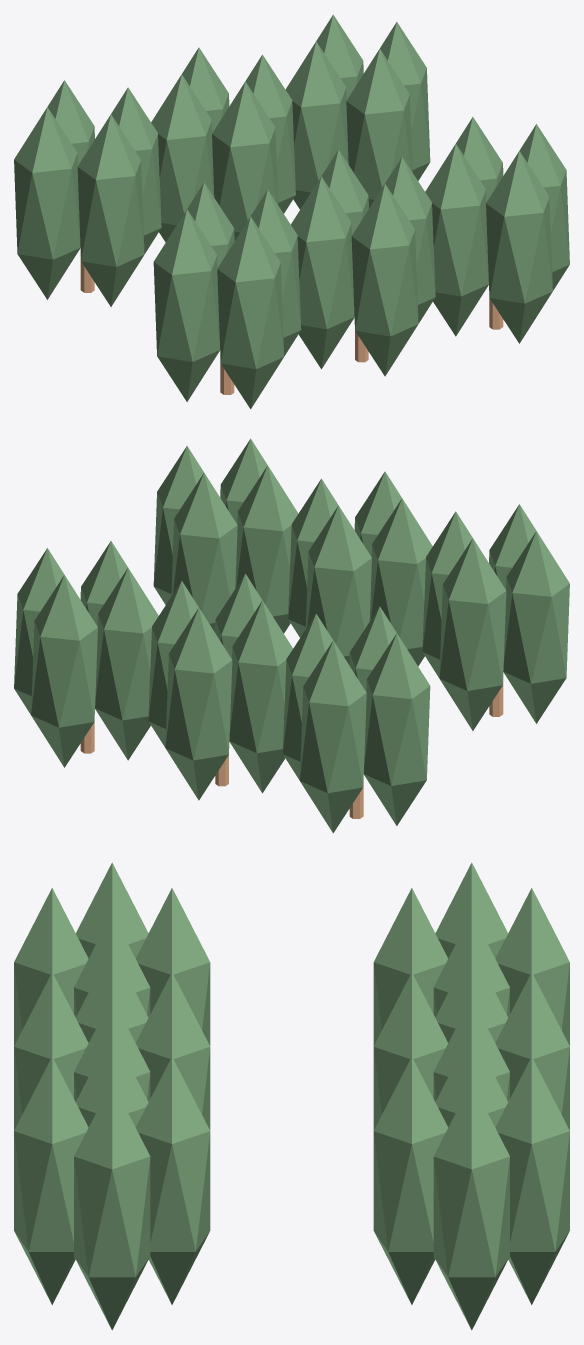
3 renders of one model, top to bottom at view 1: azimuth 30°, elevation 25°; view 2: azimuth 150°, elevation 25°; view 3: azimuth 270°, elevation 25°, orthographic. The views are drawn at different scales.
Visible parts, largest first — view 1: Leaf.011, Leaf.007, Leaf.019, Leaf.003, Leaf.002, Leaf.006, Leaf.018, Leaf.010, Leaf.023, Leaf.015, Leaf.022, Leaf.014 (+12 smaller); view 2: Leaf.013, Leaf.001, Leaf.021, Leaf.005, Leaf.006, Leaf.002, Leaf.022, Leaf.014, Leaf.017, Leaf.009, Leaf.018, Leaf.010 (+12 smaller); view 3: Leaf.016, Leaf.020, Leaf.017, Leaf.023, Leaf.019, Leaf.021, Leaf.001, Leaf.007, Leaf.009, Leaf.015, Leaf.011, Leaf.013 (+12 smaller).
Part boxes in pixels (x1=…): Leaf.011: x1=351, y1=184, x2=418, y2=376; Leaf.007: x1=77, y1=114, x2=144, y2=306; Leaf.019: x1=486, y1=151, x2=552, y2=343; Leaf.003: x1=217, y1=216, x2=284, y2=409; Leaf.002: x1=153, y1=209, x2=219, y2=401; Leaf.006: x1=14, y1=107, x2=80, y2=299; Leaf.018: x1=425, y1=144, x2=488, y2=336; Leaf.010: x1=291, y1=176, x2=354, y2=369; Leaf.023: x1=346, y1=48, x2=412, y2=207; Leaf.015: x1=212, y1=81, x2=278, y2=240; Leaf.022: x1=285, y1=41, x2=348, y2=209; Leaf.014: x1=151, y1=74, x2=214, y2=242; Leaf.013: x1=165, y1=608, x2=232, y2=800; Leaf.001: x1=439, y1=538, x2=506, y2=730; Leaf.021: x1=31, y1=575, x2=97, y2=767; Leaf.005: x1=299, y1=640, x2=366, y2=833; Leaf.006: x1=364, y1=633, x2=430, y2=825; Leaf.002: x1=503, y1=531, x2=569, y2=723; Leaf.022: x1=95, y1=568, x2=158, y2=760; Leaf.014: x1=229, y1=600, x2=292, y2=793; Leaf.017: x1=171, y1=472, x2=237, y2=631; Leaf.009: x1=305, y1=505, x2=371, y2=664; Leaf.018: x1=235, y1=465, x2=298, y2=633; Leaf.010: x1=369, y1=498, x2=432, y2=666; Leaf.016: x1=74, y1=1082, x2=150, y2=1330; Leaf.020: x1=433, y1=1082, x2=509, y2=1330; Leaf.017: x1=135, y1=1057, x2=210, y2=1304; Leaf.023: x1=373, y1=1057, x2=448, y2=1304; Leaf.019: x1=14, y1=1057, x2=88, y2=1304; Leaf.021: x1=495, y1=1057, x2=569, y2=1304; Leaf.001: x1=135, y1=888, x2=210, y2=1045; Leaf.007: x1=373, y1=888, x2=448, y2=1045; Leaf.009: x1=135, y1=972, x2=210, y2=1130; Leaf.015: x1=373, y1=972, x2=448, y2=1130; Leaf.011: x1=14, y1=972, x2=88, y2=1130; Leaf.013: x1=495, y1=972, x2=569, y2=1130.
Size of the model in its own units: 60.94 by 27.5 by 55.66.
